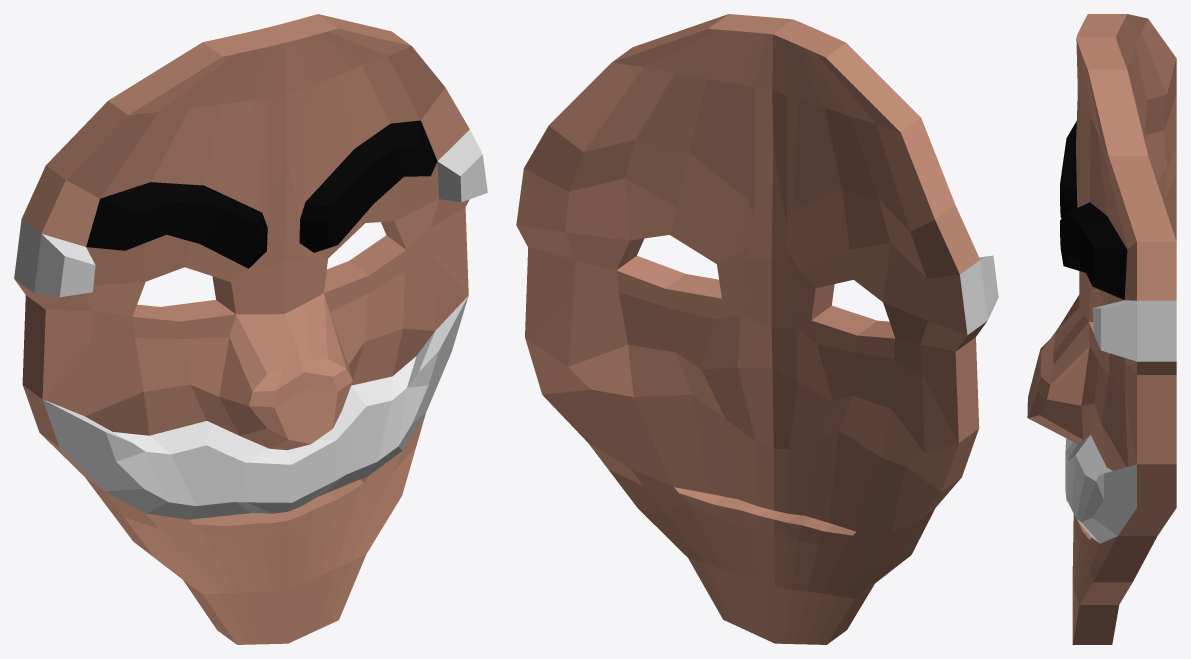
Rendered from mask_mr_robot.fbx.
The picture shows the model from 3 angles, left to right: view 1: azimuth 30°, elevation 25°; view 2: azimuth 150°, elevation 25°; view 3: azimuth 270°, elevation 25°; orthographic projection. The views are drawn at different scales.
Parts seen in each view (by area): view 1: Plane; view 2: Plane; view 3: Plane.
Boxes of the visible parts, x1,y1,x2,y2 form: Plane: (14,14,487,644); Plane: (516,14,998,644); Plane: (1027,14,1176,644).
Size of the model in its own units: 987 by 1277 by 291.
